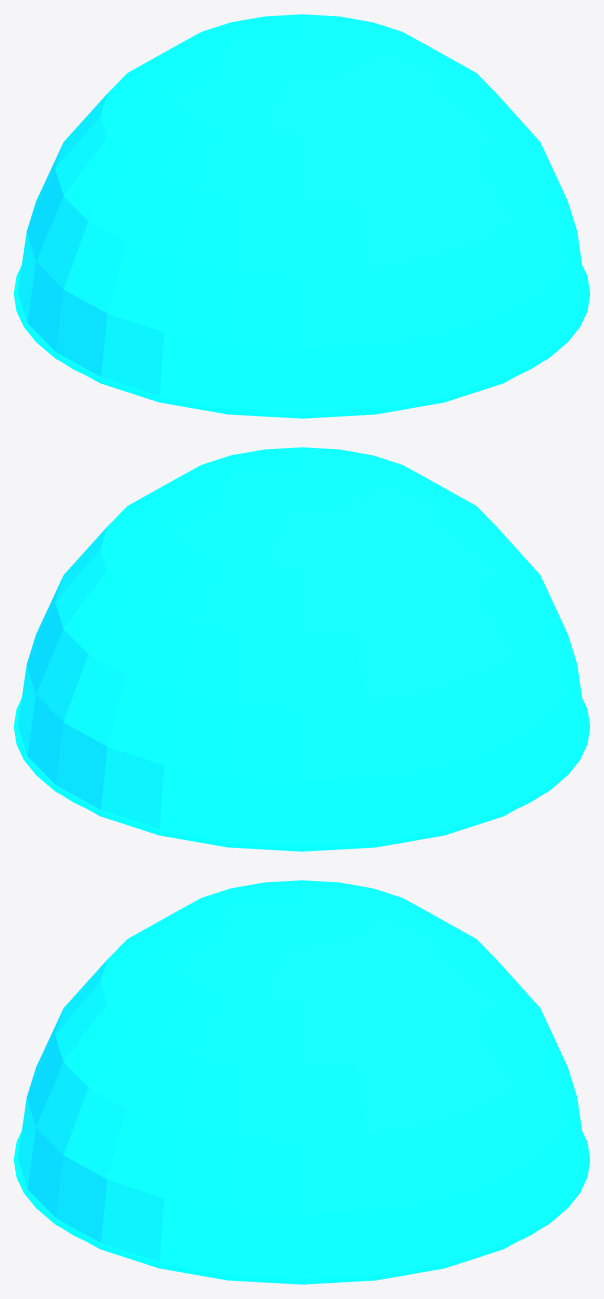
The model's file is NT_ShieldDome_Cyan.fbx.
3 renders of one model, top to bottom at view 1: azimuth 30°, elevation 25°; view 2: azimuth 150°, elevation 25°; view 3: azimuth 270°, elevation 25°, orthographic.
Visible parts, largest first — view 1: NT_ShieldDome_Cyan__EffectMesh; view 2: NT_ShieldDome_Cyan__EffectMesh; view 3: NT_ShieldDome_Cyan__EffectMesh.
Part boxes in pixels (x1,y1,x2,y2): NT_ShieldDome_Cyan__EffectMesh: [14, 14, 589, 418]; NT_ShieldDome_Cyan__EffectMesh: [14, 447, 589, 851]; NT_ShieldDome_Cyan__EffectMesh: [14, 880, 589, 1284].
Bounding box in the file's own units: 2.59 × 1.28 × 2.59.
